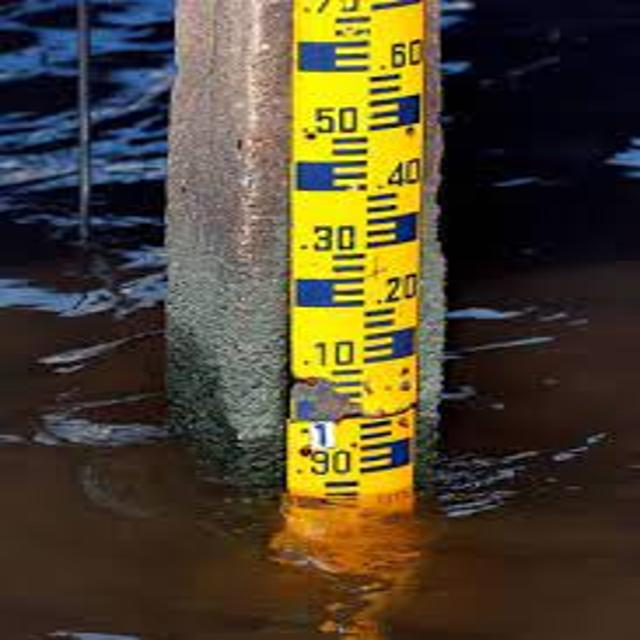ruler: (259, 0, 456, 525)
value: (303, 96, 372, 144), (372, 259, 432, 313), (304, 332, 372, 379), (379, 148, 430, 202), (306, 213, 361, 259), (382, 28, 428, 78), (293, 447, 354, 480), (309, 418, 335, 449)
